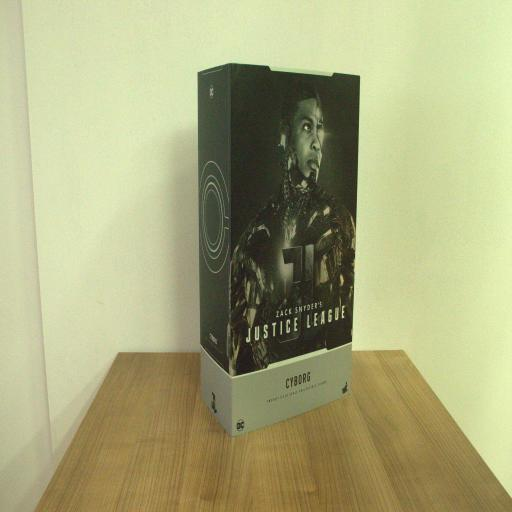Cyborg: (197, 62, 361, 437)
